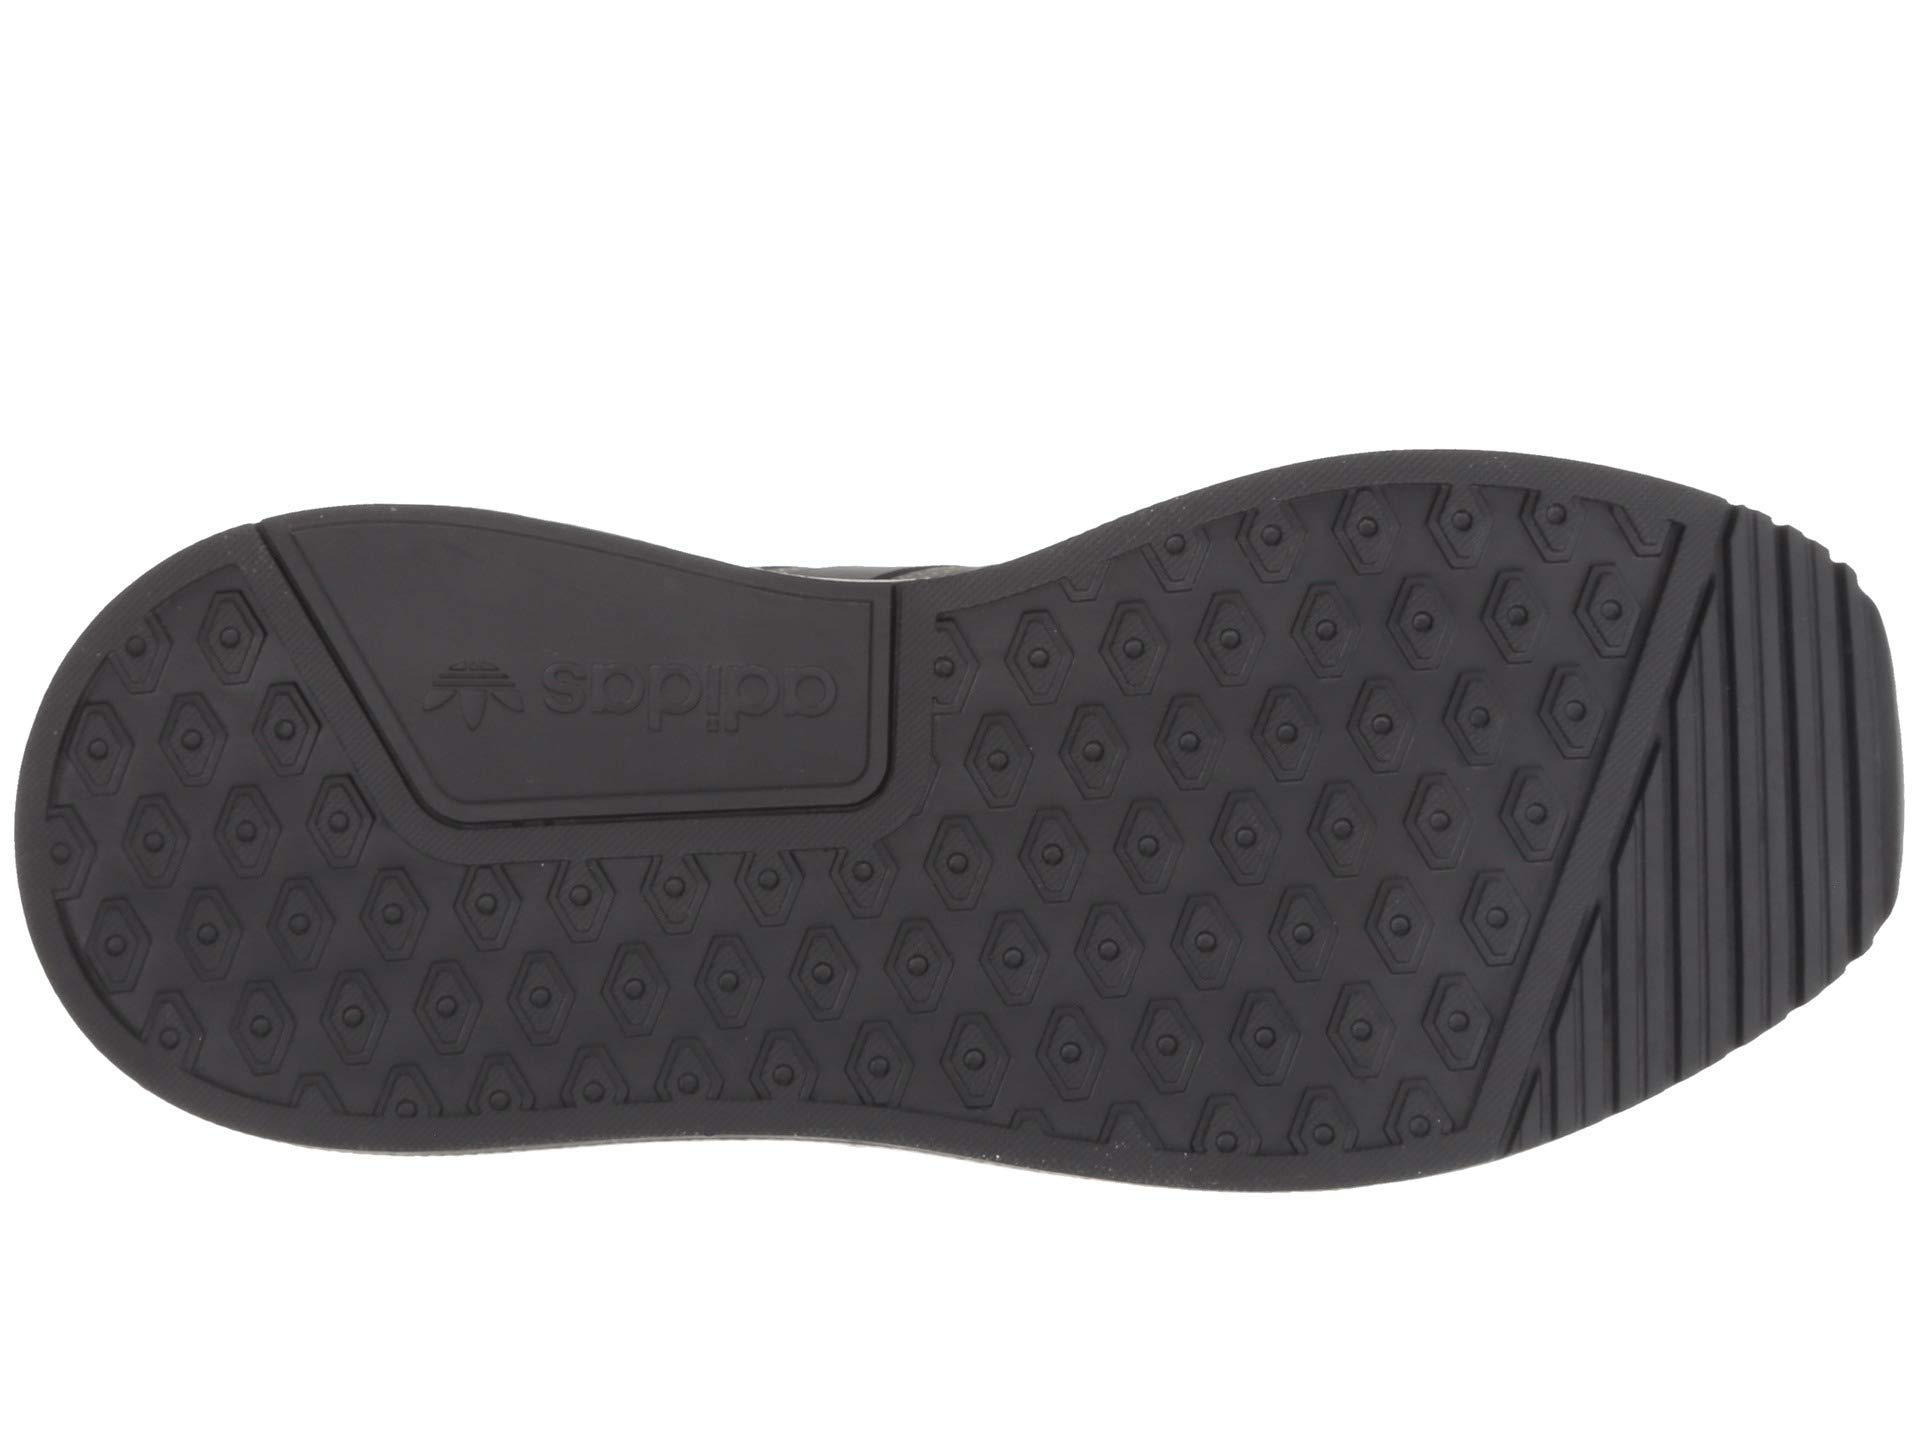circle: (975, 672, 1473, 1136), (157, 796, 535, 1088)
line: (1580, 762, 1790, 994)
polygon: (975, 672, 1473, 1136), (157, 796, 535, 1088)
